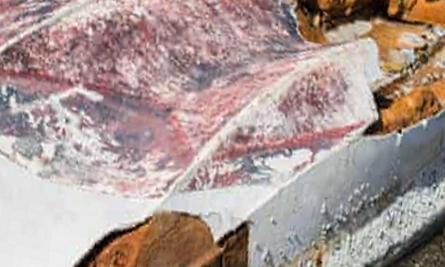rust: (289, 1, 445, 150), (75, 207, 254, 265), (298, 236, 333, 267)
